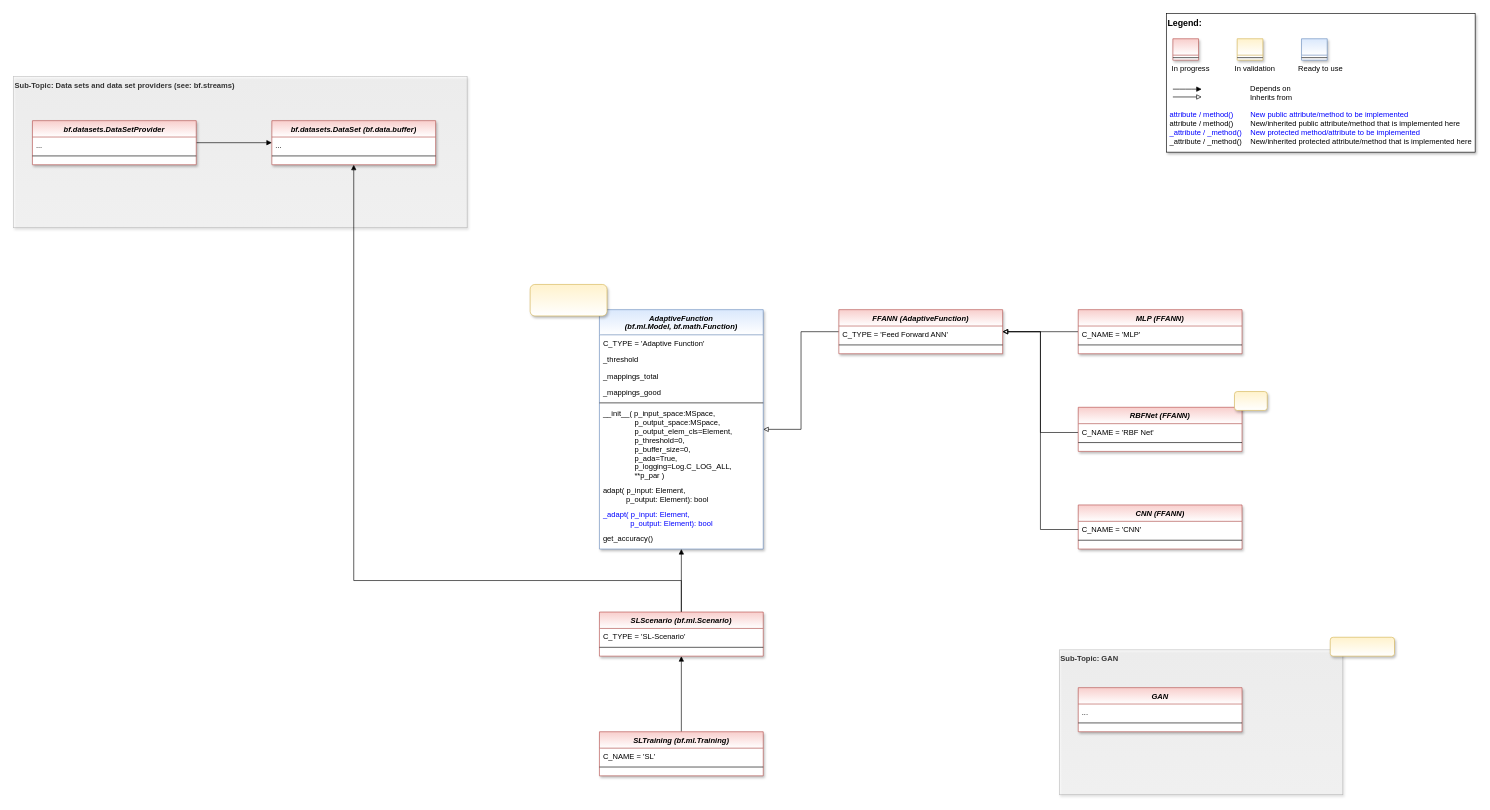
Image size: 1490x810. Some labels were removed from this diagram. Here are the shapes that lost their labels. From the top down, the centre of each, then its label:
(x=569, y=300): Very universal concept! Is it more bf.ml?
(x=1251, y=401): Detlef
(x=1362, y=647): Laxmikant
